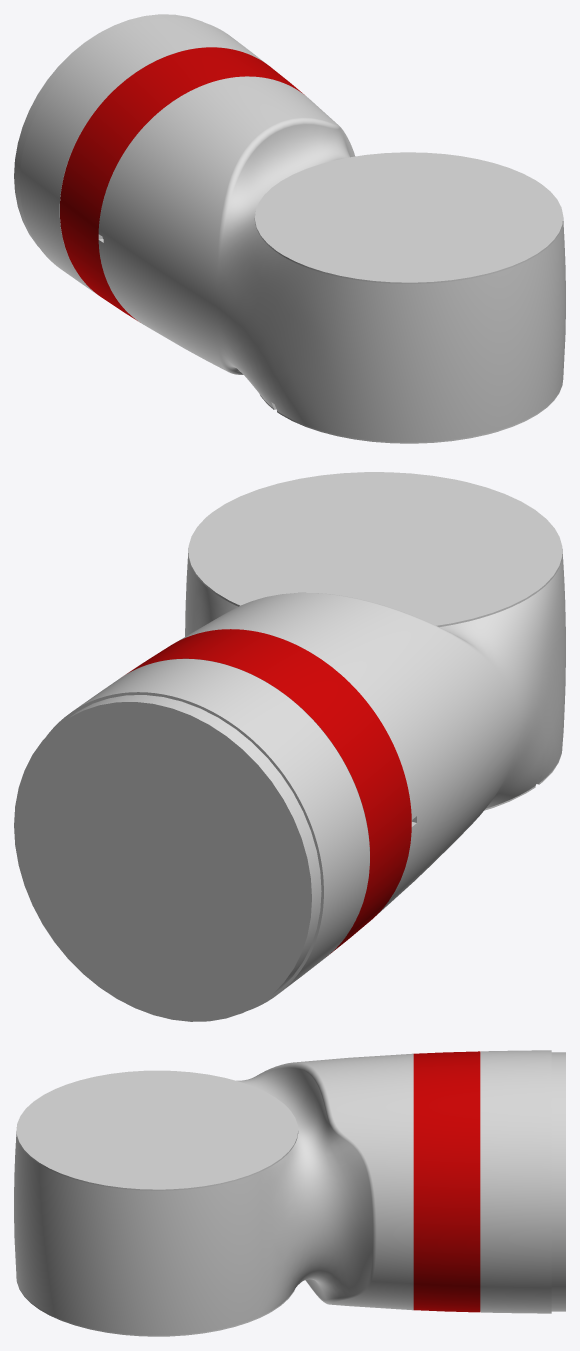
3 views of the same model, one above another, from view 1: azimuth 30°, elevation 25°; view 2: azimuth 150°, elevation 25°; view 3: azimuth 270°, elevation 25° (orthographic). The views are drawn at different scales.
Visible parts, largest first — view 1: E_Arm_Marvin_M6-S-689; view 2: E_Arm_Marvin_M6-S-689; view 3: E_Arm_Marvin_M6-S-689.
Part boxes in pixels (left/top/right/bottom): E_Arm_Marvin_M6-S-689: left=14, top=14, right=565, bottom=443; E_Arm_Marvin_M6-S-689: left=14, top=472, right=565, bottom=1021; E_Arm_Marvin_M6-S-689: left=14, top=1050, right=565, bottom=1336.
Size of the model in its own units: 0.1146 by 0.0925 by 0.1938.
